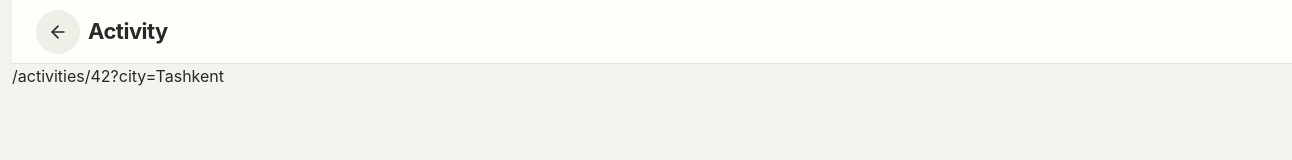
responsive shell › returns a direct detail link to a safe list fallback
The image size is (1292, 160).
Click the button named "Back" at {"x": 58, "y": 32}, box [36, 10, 80, 54]
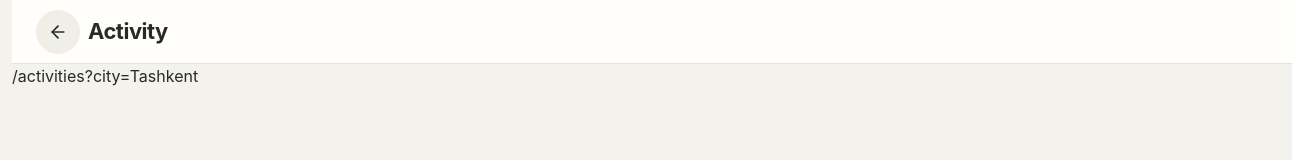
Now the text "/activities?city=Tashkent" is shown, box [12, 66, 198, 86]
